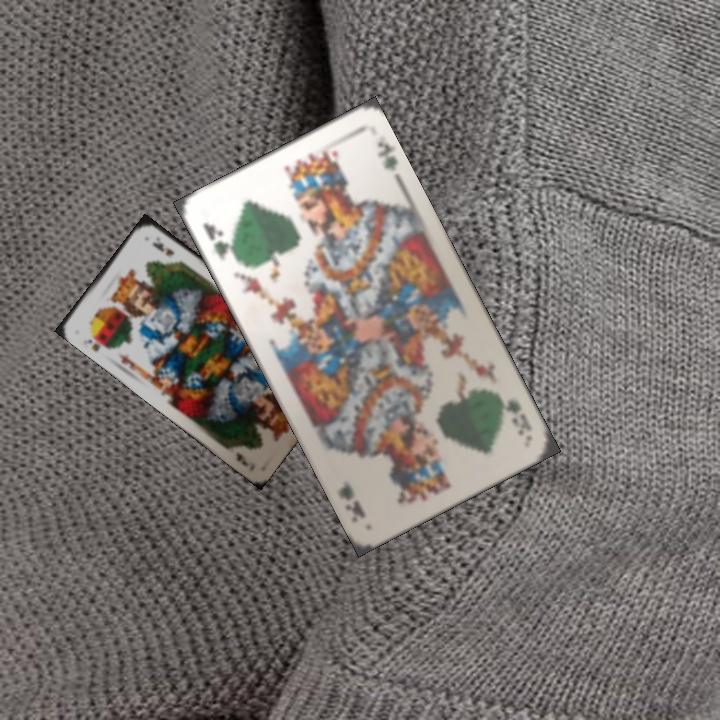GK: (199, 218, 241, 264), (499, 395, 534, 439)
SK: (79, 335, 111, 354)
